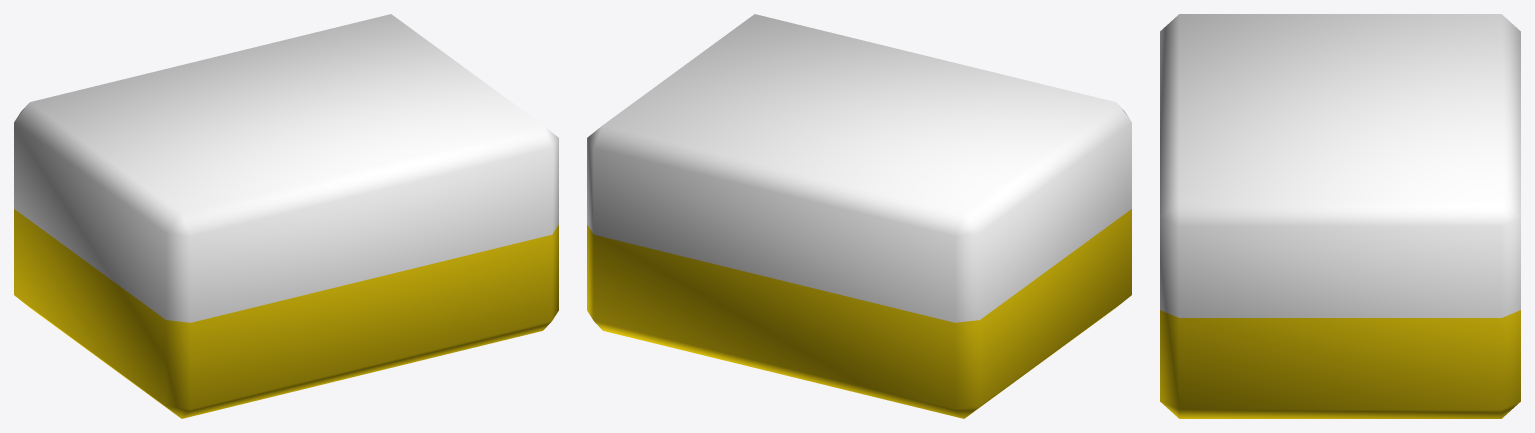
File: tiles_site_2.glb
3 renders of one model, left to right at view 1: azimuth 30°, elevation 25°; view 2: azimuth 150°, elevation 25°; view 3: azimuth 270°, elevation 25°, orthographic. The views are drawn at different scales.
Visible parts, largest first — view 1: Cube; view 2: Cube; view 3: Cube.
Part boxes in pixels (left/top/right/bottom): Cube: left=14, top=14, right=558, bottom=418; Cube: left=587, top=14, right=1131, bottom=418; Cube: left=1160, top=14, right=1520, bottom=418.
Bounding box in the file's own units: 2 × 1 × 1.5.
